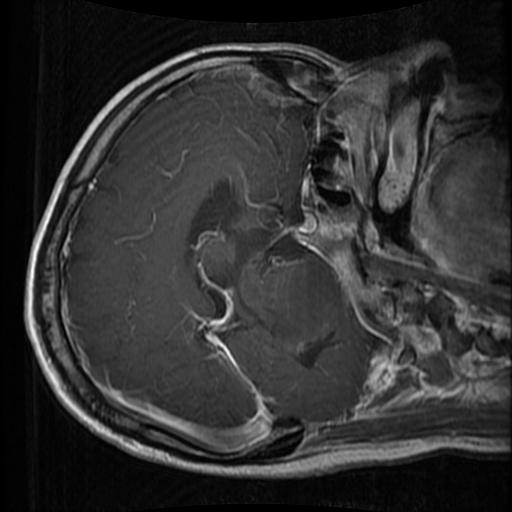glioma: (270, 251, 340, 347)
